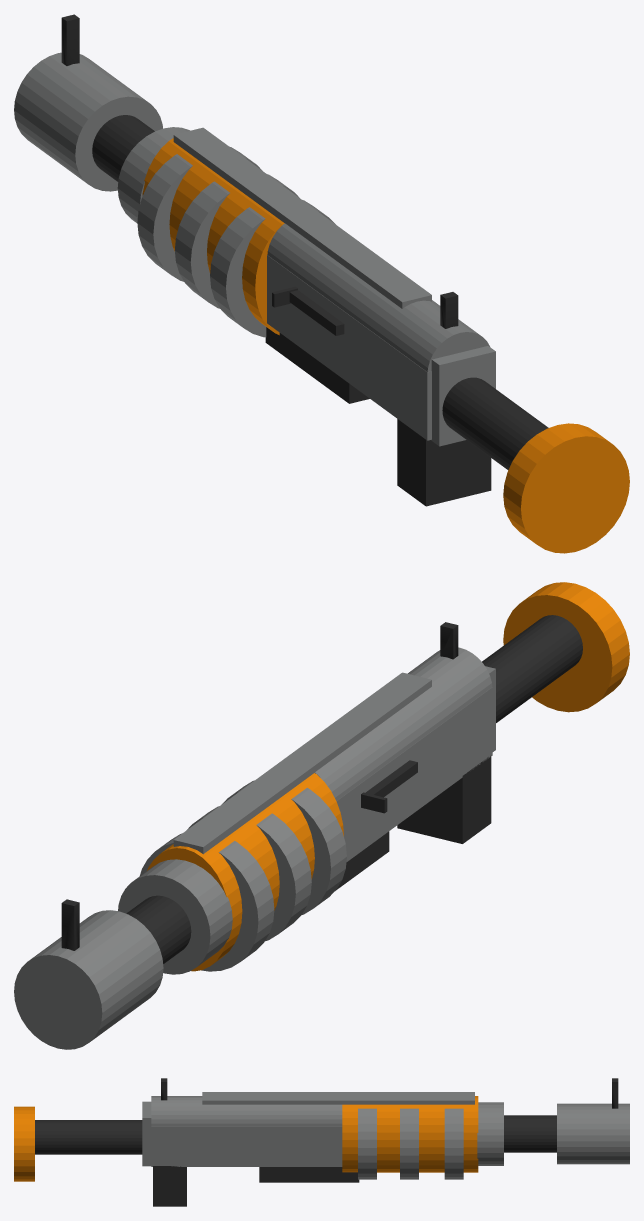
File: BrokenRifle.fbx
The picture shows the model from 3 angles, top to bottom: view 1: azimuth 30°, elevation 25°; view 2: azimuth 150°, elevation 25°; view 3: azimuth 270°, elevation 25°; orthographic projection. The views are drawn at different scales.
Parts seen in each view (by area): view 1: Gun, Barrel, Mag, FrontSight; view 2: Gun, Barrel, Mag, FrontSight, BackSight; view 3: Gun, Barrel, Mag, FrontSight.
Part boxes in pixels (box(x1,y1,x2,y2)): Gun: box(92, 115, 629, 553); Barrel: box(14, 52, 162, 191); Mag: box(265, 327, 369, 403); FrontSight: box(61, 14, 79, 65); Gun: box(118, 582, 629, 974); Barrel: box(14, 910, 163, 1049); Mag: box(335, 831, 389, 890); FrontSight: box(61, 899, 79, 950); BackSight: box(440, 622, 458, 659); Gun: box(14, 1092, 556, 1206); Barrel: box(557, 1103, 629, 1164); Mag: box(259, 1167, 359, 1182); FrontSight: box(612, 1078, 618, 1108).
Size of the model in its own units: 371 by 575 by 2744.
